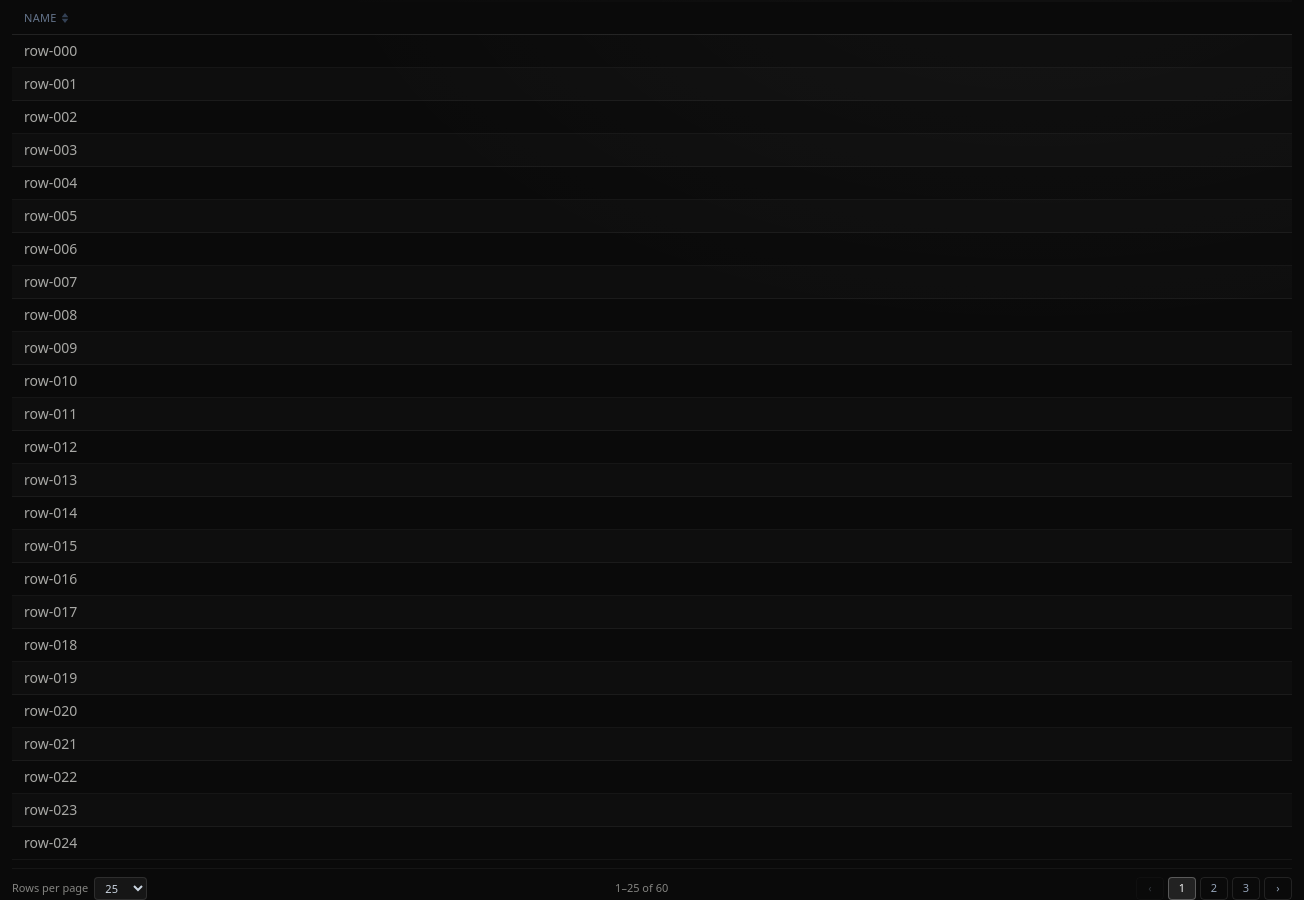
it: DataTable, pagination › ⭐ FILTERING FROM A DEEP PAGE RETURNS TO PAGE ONE, the operator's own search must not read as empty
The image size is (1304, 900).
(page scrolled)
Click the button named "Next page".
click(1278, 889)  # box 1264,877 -> 1292,899
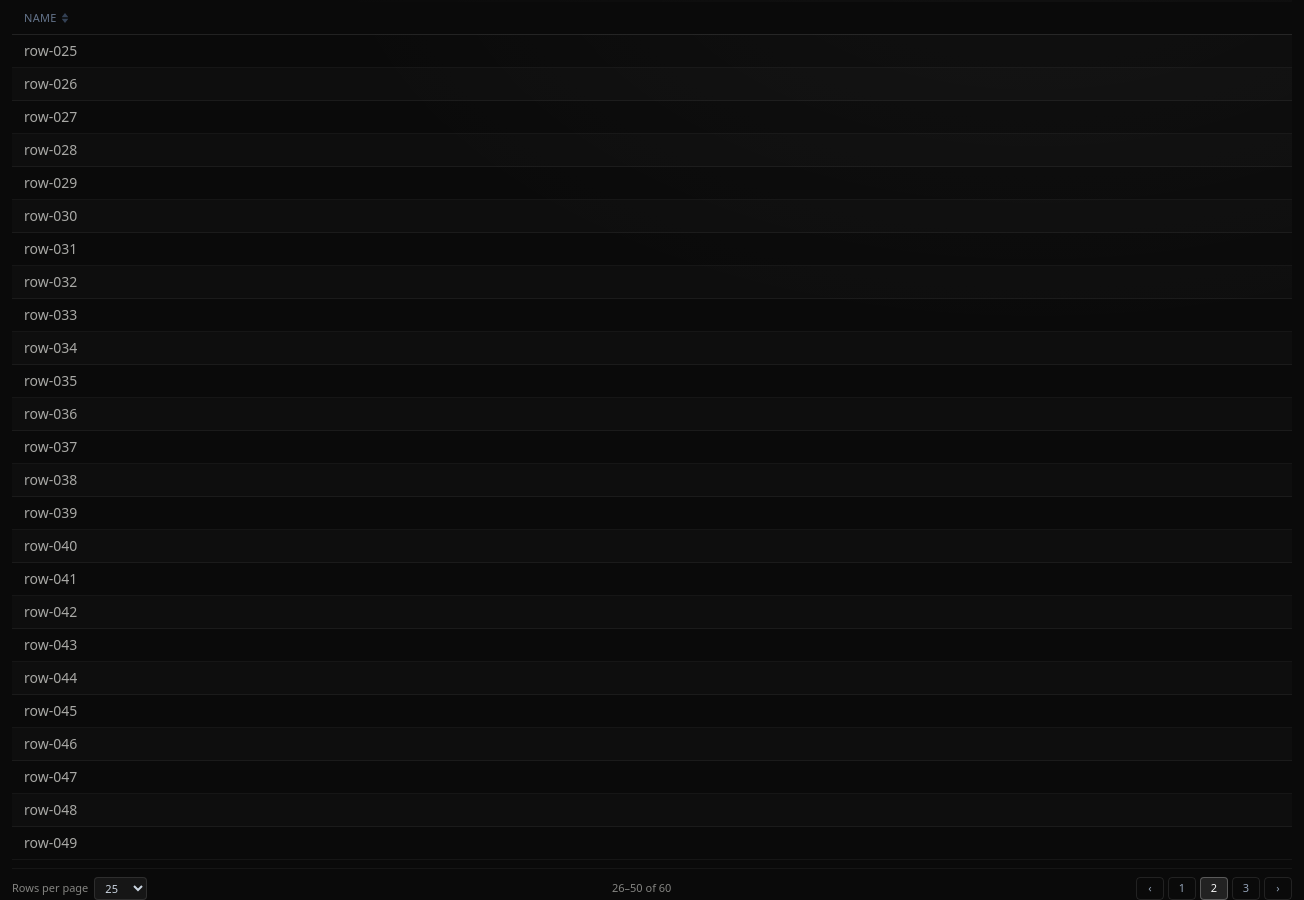
Click the button named "Next page".
click(1278, 889)  # box 1264,877 -> 1292,899
(page scrolled)
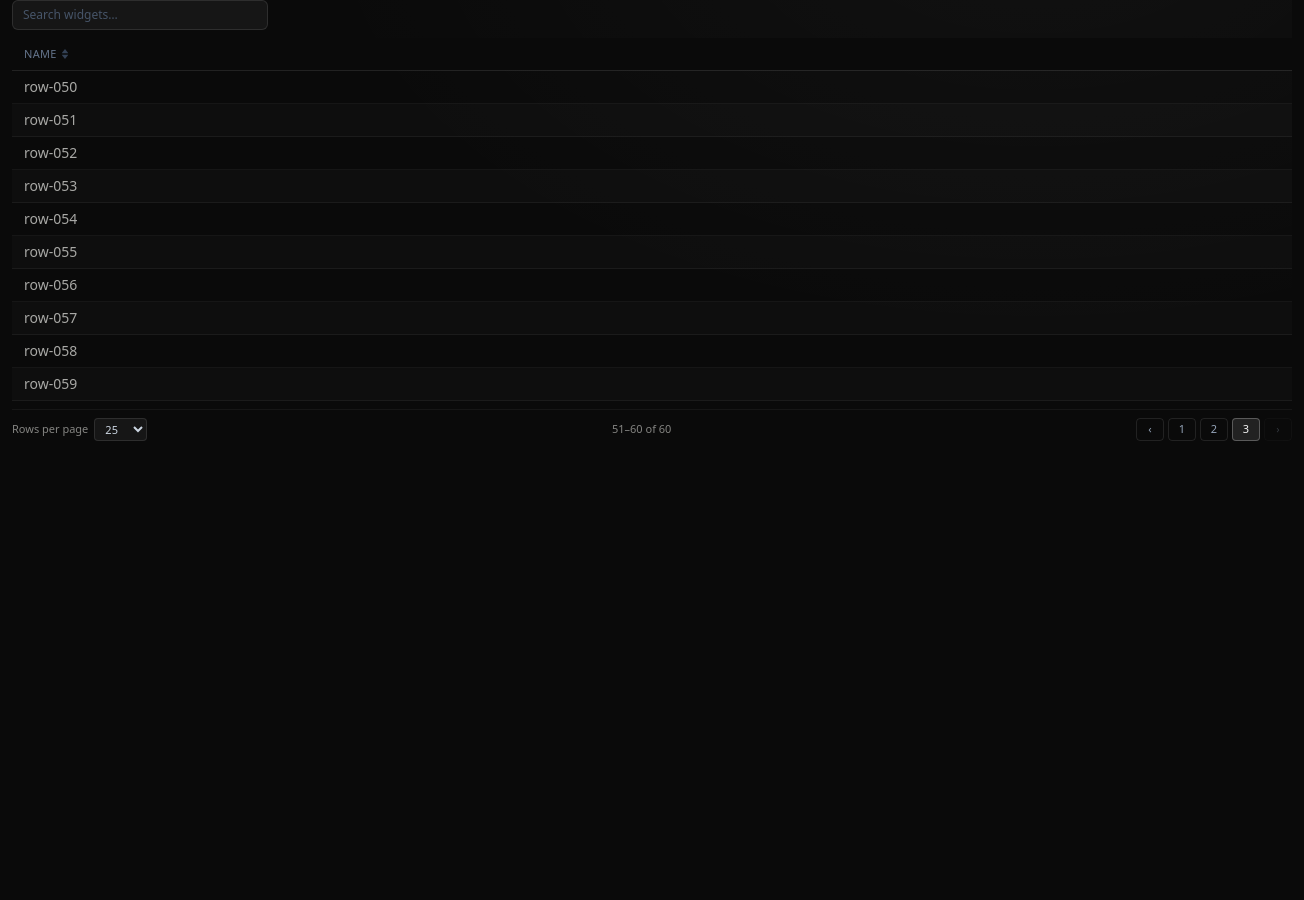
Check: the button named "Page 3" is marked as current, box 1232,418 -> 1260,441
Type "ana@ex.com" into the search field named "Filter Widgets".
click(140, 15); type("ana@ex.com")  # box 12,0 -> 268,30
(page scrolled)
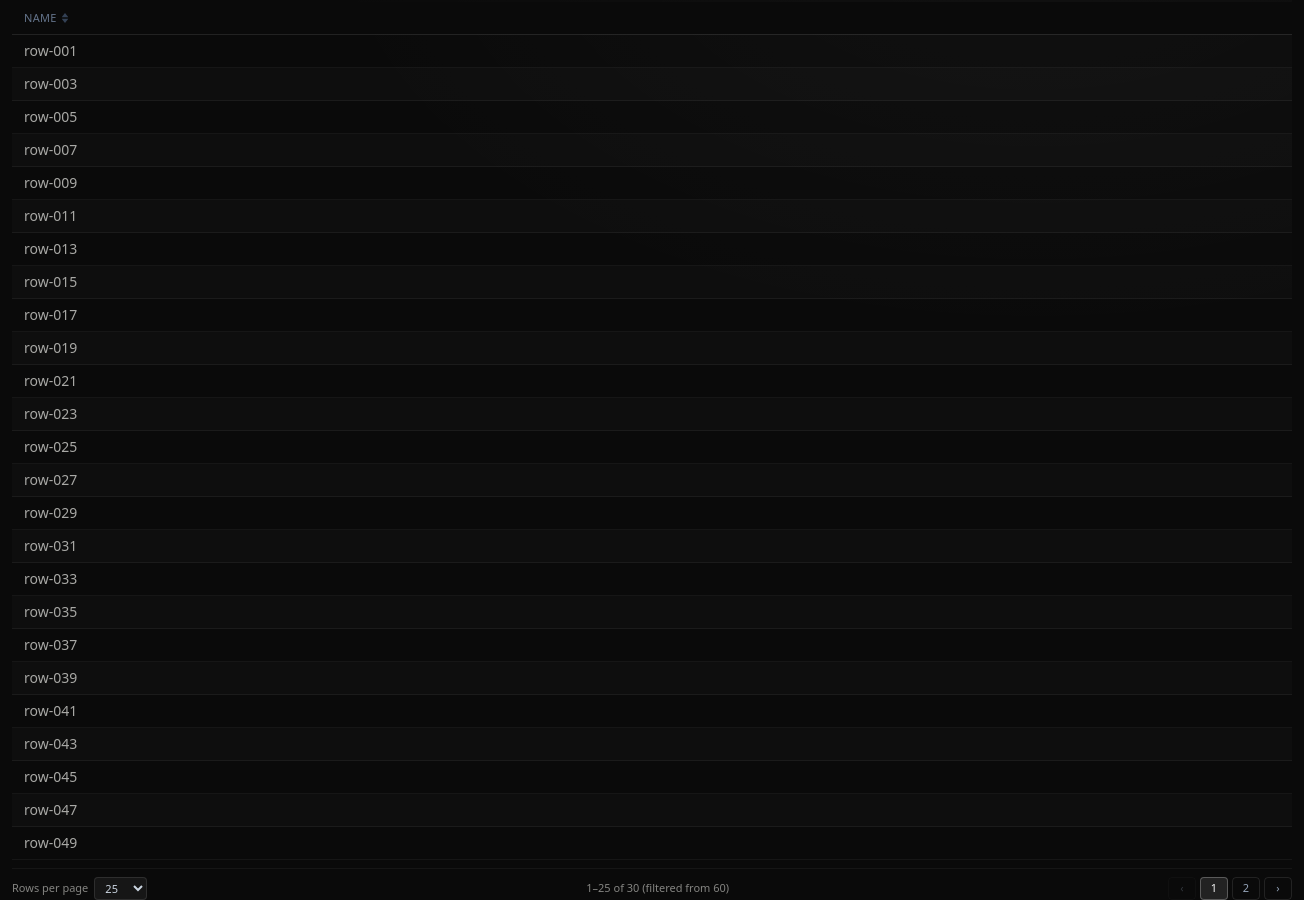
Check: the text "1–25 of 30 (filtered from 60)" is shown, box 586,880 -> 729,897
